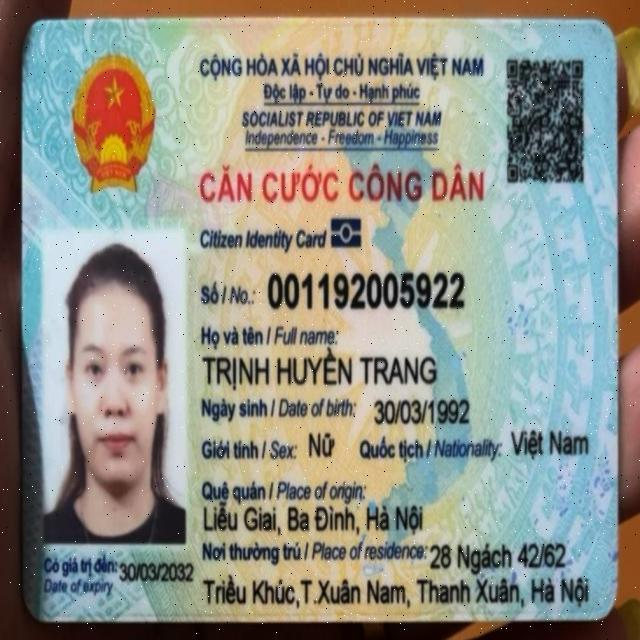current_place: (201, 569, 595, 612), (429, 534, 572, 580)
dob: (372, 396, 475, 429)
expire_date: (117, 558, 199, 588)
gender: (307, 424, 339, 463)
id: (266, 269, 469, 311)
name: (204, 349, 443, 391)
nationality: (507, 428, 592, 465)
origin_place: (198, 501, 426, 539)
